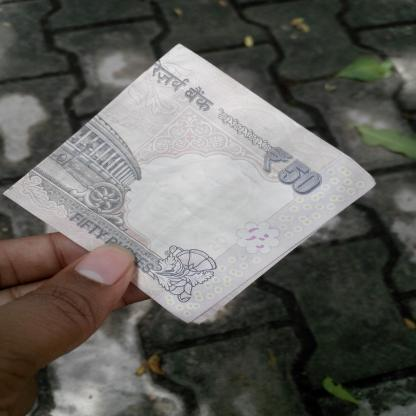Old50Back: (0, 43, 378, 327)
